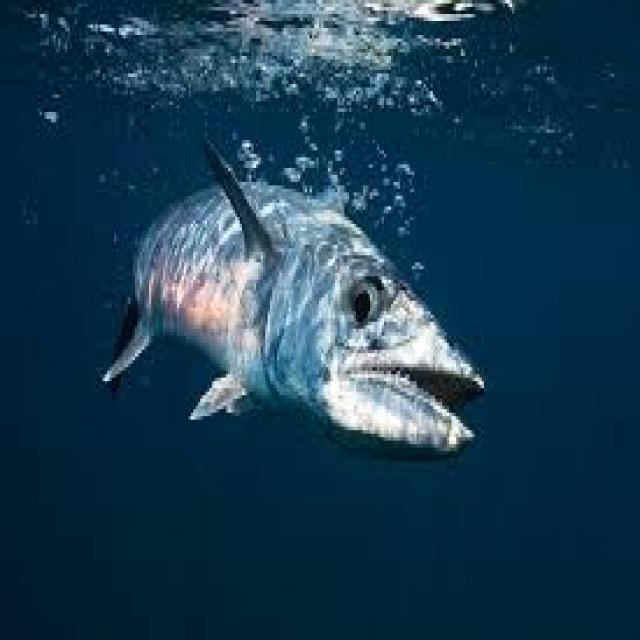King Mackerel: (100, 137, 486, 465)
